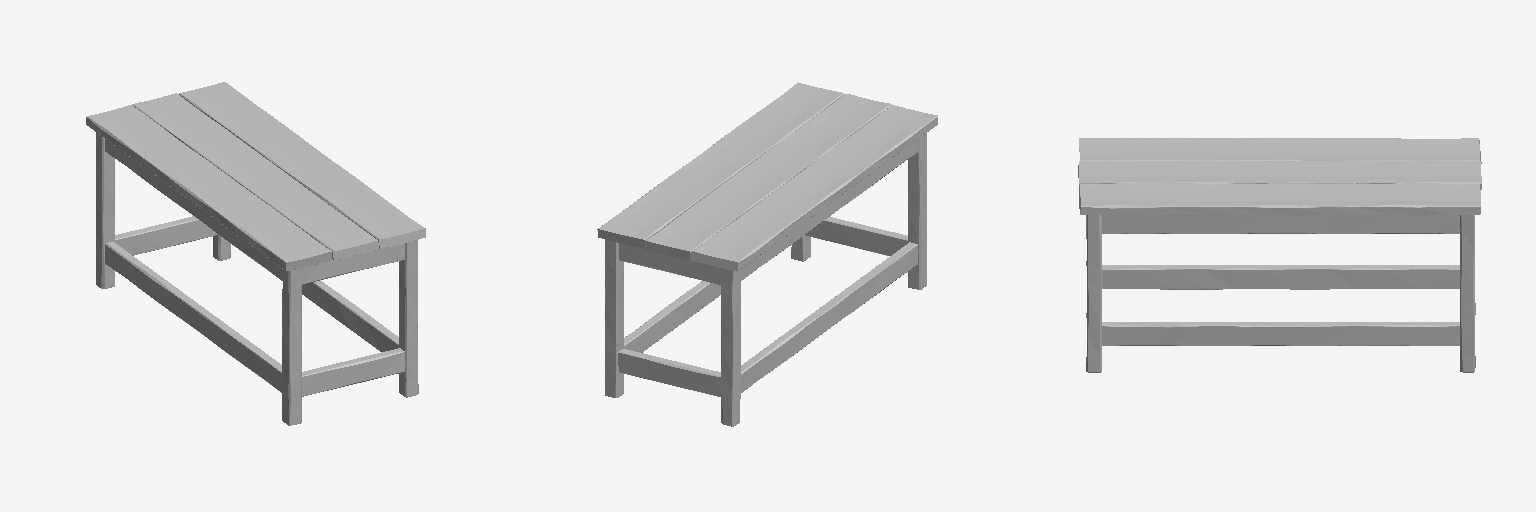
The model's file is table.obj.
3 renders of one model, left to right at view 1: azimuth 30°, elevation 25°; view 2: azimuth 150°, elevation 25°; view 3: azimuth 270°, elevation 25°, orthographic.
Parts seen in each view (by area): view 1: Wooden_table; view 2: Wooden_table; view 3: Wooden_table.
Part boxes in pixels (x1,y1,x2,y2): Wooden_table: (86,82,425,425); Wooden_table: (597,82,937,426); Wooden_table: (1078,138,1481,372).
Size of the model in its own units: 0.6389 by 0.7313 by 1.59.